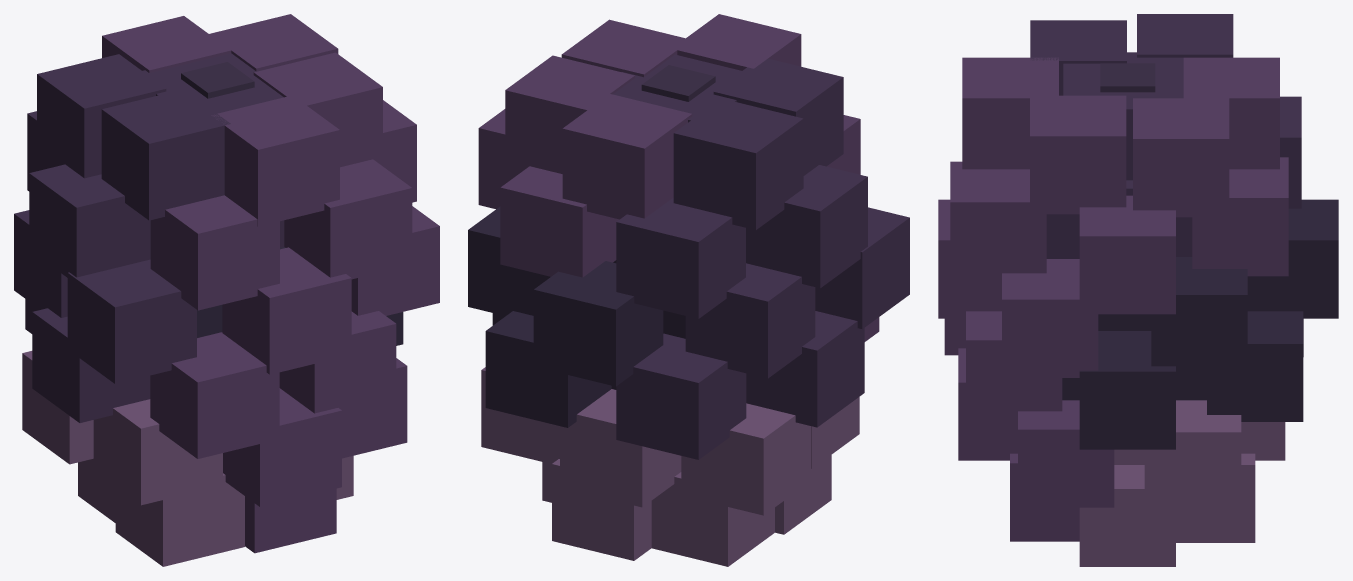
Rendered from BB-04_marion.glb.
3 renders of one model, left to right at view 1: azimuth 30°, elevation 25°; view 2: azimuth 150°, elevation 25°; view 3: azimuth 270°, elevation 25°, orthographic.
Visible parts, largest first — view 1: Marion / Marionberry · original workbench cubes; view 2: Marion / Marionberry · original workbench cubes; view 3: Marion / Marionberry · original workbench cubes.
Boxes of the visible parts, bbox=[...] form: Marion / Marionberry · original workbench cubes: bbox=[14, 14, 439, 566]; Marion / Marionberry · original workbench cubes: bbox=[468, 14, 909, 566]; Marion / Marionberry · original workbench cubes: bbox=[938, 14, 1338, 566].
Size of the model in its own units: 0.1092 by 0.1308 by 0.1086.
